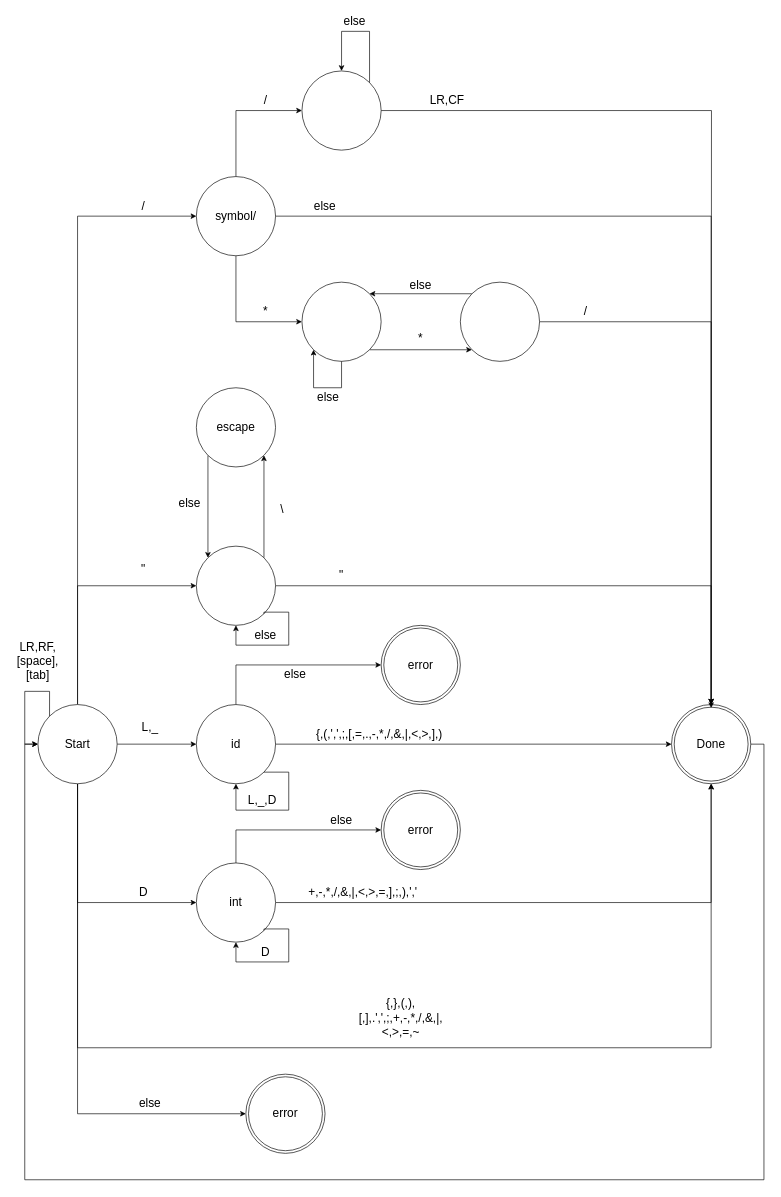
This 781x1197 diagram has some shape labels left out. The shapes that lost their labels are listed below. From the top down, each one's centre as x and y in pixels, then its label:
At point (341, 110): "slc".
At point (341, 321): "smc".
At point (500, 321): "mmc".
At point (236, 585): "string".
